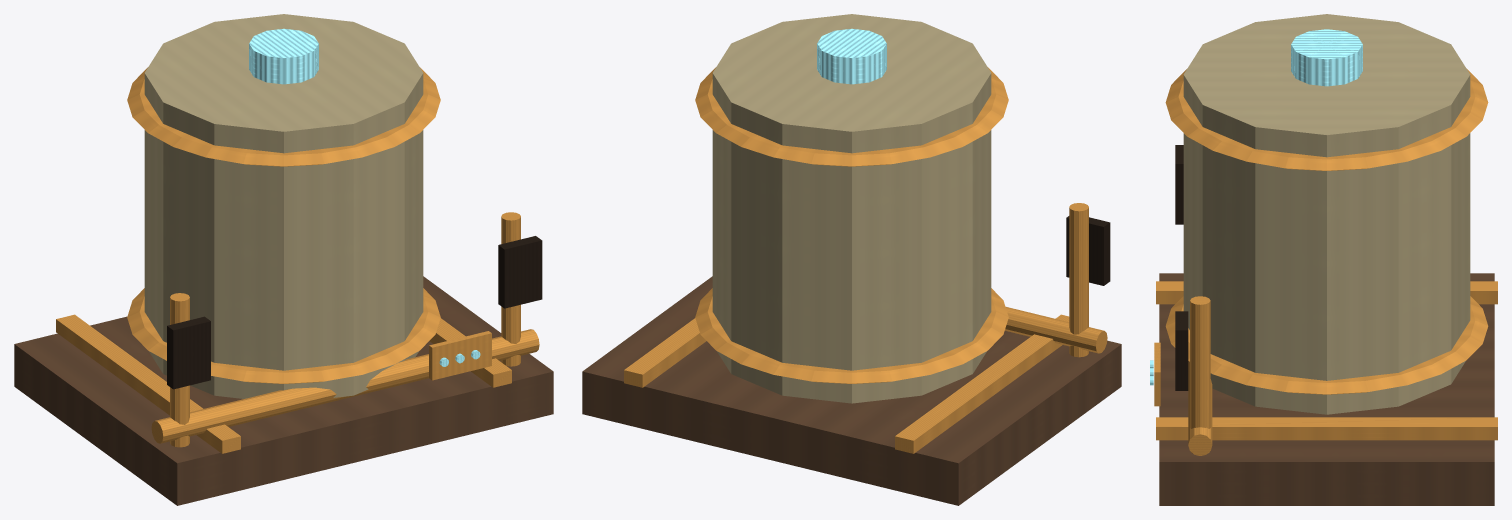
Rendered from atlas100-s017-a02.glb.
The picture shows the model from 3 angles, left to right: view 1: azimuth 30°, elevation 25°; view 2: azimuth 150°, elevation 25°; view 3: azimuth 270°, elevation 25°; orthographic projection. The views are drawn at different scales.
Parts seen in each view (by area): view 1: atlas100-s017-a02:part-003, atlas100-s017-a02:part-000, atlas100-s017-a02:part-012, atlas100-s017-a02:part-005, atlas100-s017-a02:part-004, atlas100-s017-a02:part-001, atlas100-s017-a02:part-006, atlas100-s017-a02:part-011, atlas100-s017-a02:part-009, atlas100-s017-a02:part-013, atlas100-s017-a02:part-008, atlas100-s017-a02:part-010 (+1 smaller); view 2: atlas100-s017-a02:part-003, atlas100-s017-a02:part-000, atlas100-s017-a02:part-005, atlas100-s017-a02:part-004, atlas100-s017-a02:part-001, atlas100-s017-a02:part-006, atlas100-s017-a02:part-008, atlas100-s017-a02:part-002, atlas100-s017-a02:part-012, atlas100-s017-a02:part-009; view 3: atlas100-s017-a02:part-003, atlas100-s017-a02:part-000, atlas100-s017-a02:part-002, atlas100-s017-a02:part-005, atlas100-s017-a02:part-004, atlas100-s017-a02:part-006, atlas100-s017-a02:part-010, atlas100-s017-a02:part-001, atlas100-s017-a02:part-011, atlas100-s017-a02:part-012, atlas100-s017-a02:part-009, atlas100-s017-a02:part-013.
Part boxes in pixels (left/top/right/bottom): atlas100-s017-a02:part-003: left=144, top=14, right=423, bottom=398; atlas100-s017-a02:part-000: left=14, top=276, right=553, bottom=505; atlas100-s017-a02:part-012: left=151, top=329, right=539, bottom=443; atlas100-s017-a02:part-005: left=127, top=67, right=440, bottom=166; atlas100-s017-a02:part-004: left=127, top=288, right=440, bottom=383; atlas100-s017-a02:part-001: left=56, top=314, right=240, bottom=453; atlas100-s017-a02:part-006: left=249, top=28, right=318, bottom=84; atlas100-s017-a02:part-011: left=498, top=236, right=542, bottom=308; atlas100-s017-a02:part-009: left=167, top=316, right=210, bottom=389; atlas100-s017-a02:part-013: left=429, top=331, right=491, bottom=380; atlas100-s017-a02:part-008: left=170, top=293, right=189, bottom=447; atlas100-s017-a02:part-010: left=501, top=212, right=520, bottom=366; atlas100-s017-a02:part-003: left=712, top=14, right=991, bottom=403; atlas100-s017-a02:part-000: left=582, top=276, right=1121, bottom=505; atlas100-s017-a02:part-005: left=695, top=67, right=1008, bottom=166; atlas100-s017-a02:part-004: left=695, top=288, right=1008, bottom=383; atlas100-s017-a02:part-001: left=895, top=314, right=1069, bottom=453; atlas100-s017-a02:part-006: left=817, top=28, right=886, bottom=84; atlas100-s017-a02:part-008: left=1069, top=203, right=1088, bottom=357; atlas100-s017-a02:part-002: left=624, top=318, right=706, bottom=387; atlas100-s017-a02:part-012: left=1005, top=307, right=1107, bottom=353; atlas100-s017-a02:part-009: left=1066, top=216, right=1110, bottom=285; atlas100-s017-a02:part-003: left=1183, top=14, right=1470, bottom=414; atlas100-s017-a02:part-000: left=1159, top=273, right=1494, bottom=505; atlas100-s017-a02:part-002: left=1156, top=417, right=1497, bottom=440; atlas100-s017-a02:part-005: left=1165, top=69, right=1488, bottom=170; atlas100-s017-a02:part-004: left=1165, top=296, right=1488, bottom=394; atlas100-s017-a02:part-006: left=1291, top=29, right=1362, bottom=86; atlas100-s017-a02:part-010: left=1190, top=296, right=1210, bottom=453; atlas100-s017-a02:part-001: left=1156, top=281, right=1497, bottom=304; atlas100-s017-a02:part-011: left=1175, top=311, right=1188, bottom=390; atlas100-s017-a02:part-012: left=1188, top=361, right=1212, bottom=455; atlas100-s017-a02:part-009: left=1175, top=145, right=1183, bottom=224; atlas100-s017-a02:part-013: left=1154, top=342, right=1160, bottom=406.
Size of the model in its own units: 2.4 by 2.18 by 1.87.
5 materials, 5 textured.
